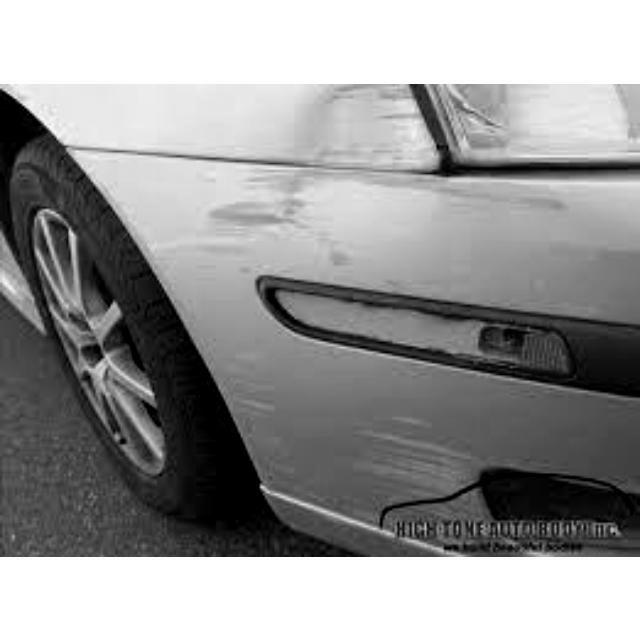front-bumper-dent: (145, 147, 637, 554)
